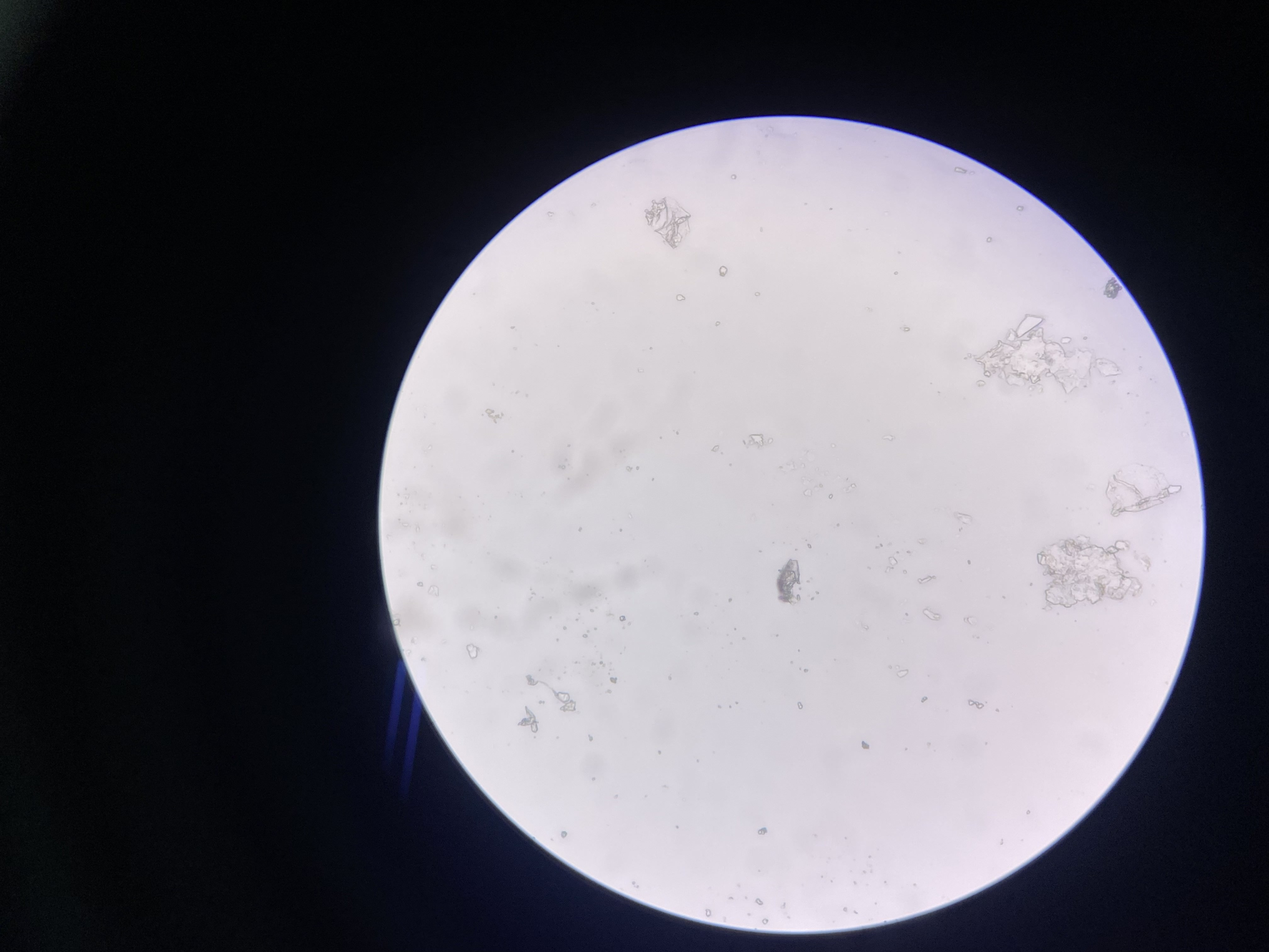microplastic: (972, 310, 1135, 395), (1030, 537, 1155, 611), (1101, 457, 1188, 519), (522, 672, 583, 718), (646, 197, 688, 249), (777, 557, 807, 606), (515, 710, 546, 735), (963, 691, 988, 713), (951, 509, 976, 529), (1101, 278, 1125, 298), (463, 640, 483, 660), (857, 734, 877, 753), (748, 431, 765, 452), (425, 584, 445, 600), (753, 827, 776, 839), (676, 291, 691, 308), (924, 605, 939, 622), (882, 552, 899, 566), (718, 264, 730, 276), (898, 667, 910, 679), (925, 575, 937, 586)
